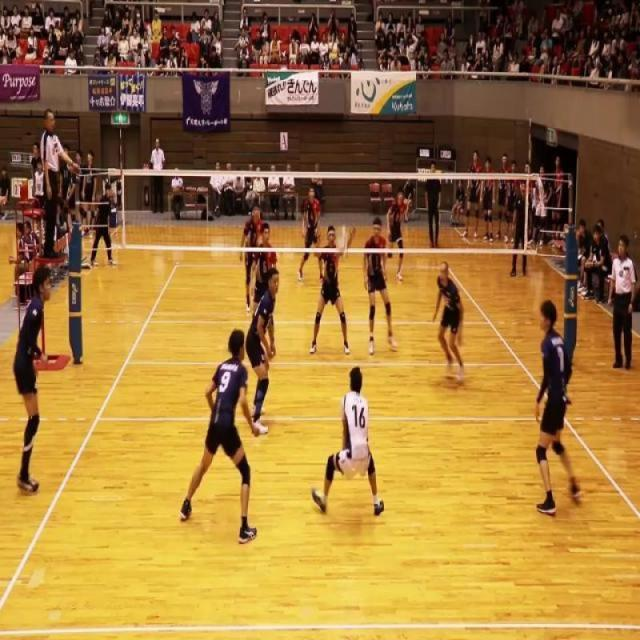volleyball: (335, 231, 348, 254)
